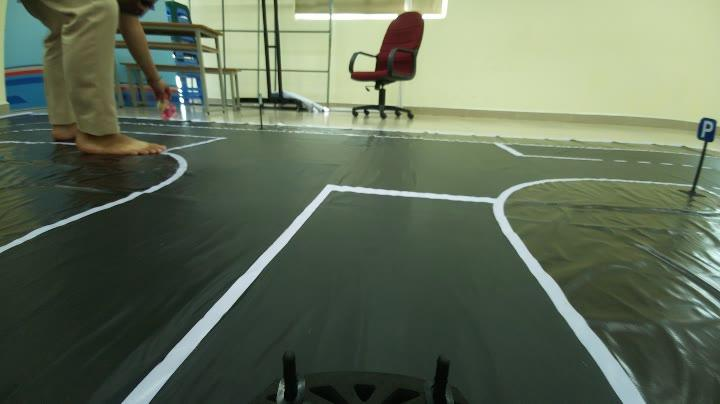parking: (696, 113, 717, 143)
